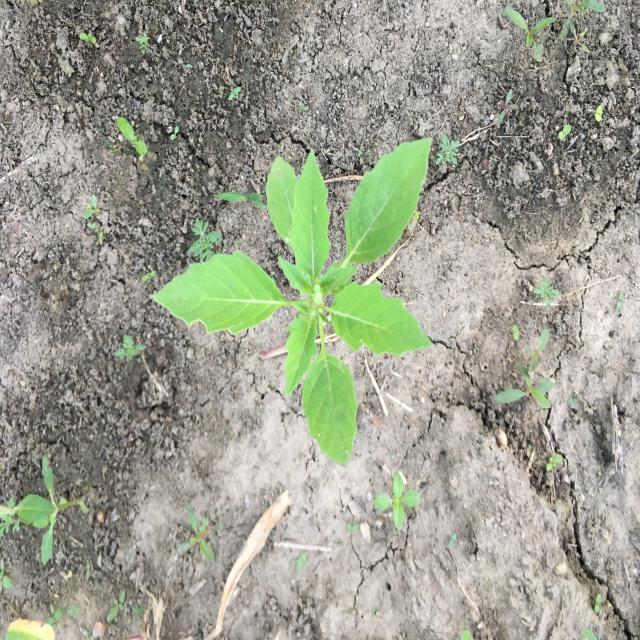CutleafGroundcherry: (150, 134, 434, 469)
Ragweed: (186, 217, 225, 266), (434, 133, 464, 174)
Waterhemp: (492, 327, 558, 411), (171, 507, 225, 568), (504, 3, 558, 63)
